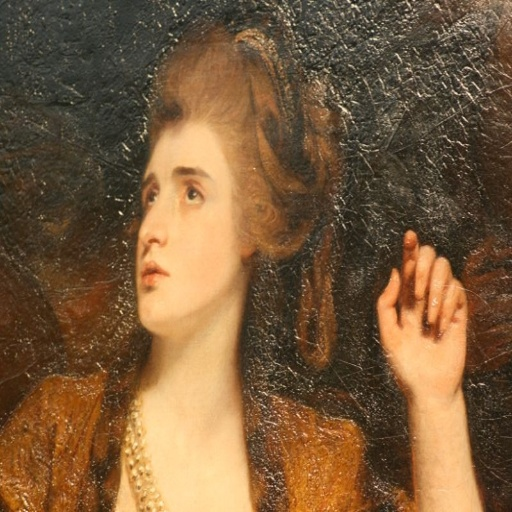hand: (377, 243, 487, 484)
